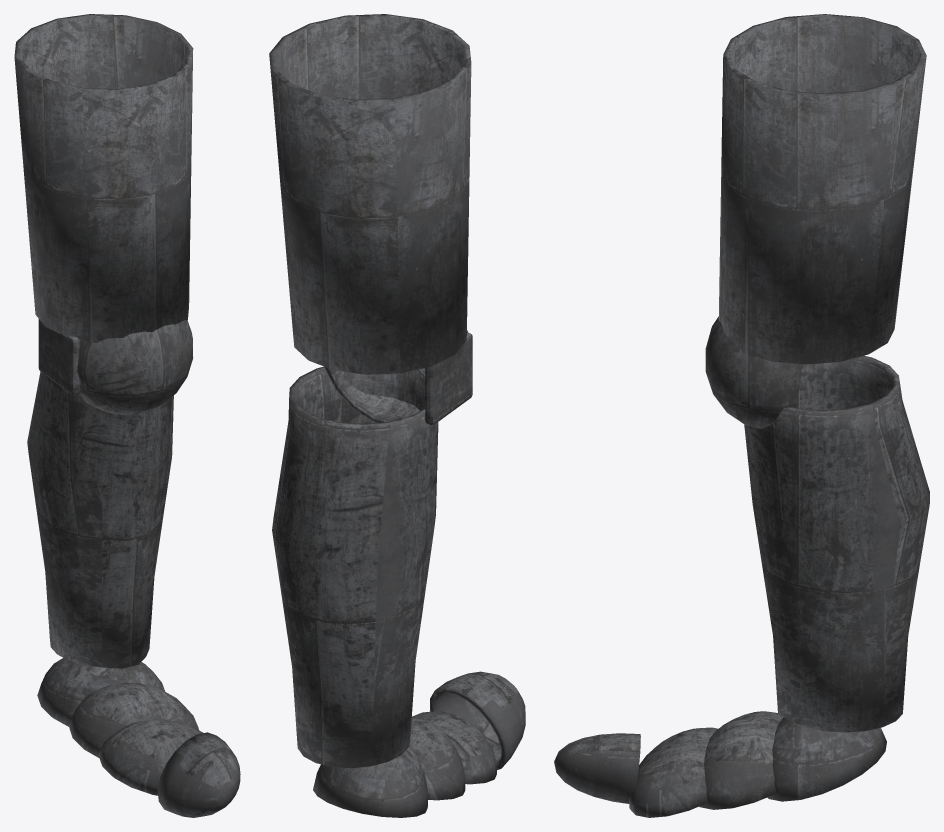
Rendered from fp_leg.glb.
The picture shows the model from 3 angles, left to right: view 1: azimuth 30°, elevation 25°; view 2: azimuth 150°, elevation 25°; view 3: azimuth 270°, elevation 25°; orthographic projection. The views are drawn at different scales.
Parts seen in each view (by area): view 1: fp_leg; view 2: fp_leg; view 3: fp_leg.
Boxes of the visible parts, x1,y1,x2,y2 form: fp_leg: (14, 14, 240, 817); fp_leg: (269, 14, 525, 817); fp_leg: (554, 14, 929, 817).
Bounding box in the file's own units: 0.212 × 0.9054 × 0.4101.
Materials: 1 (1 with a texture image).
